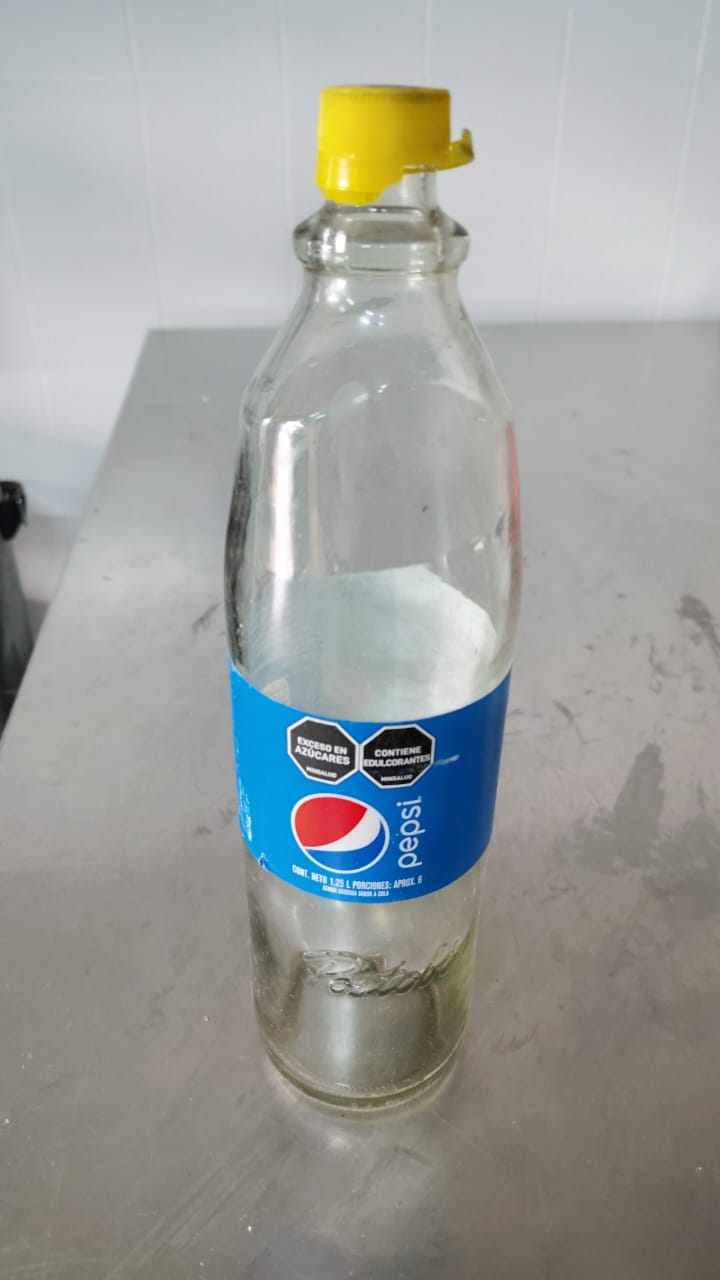Vidrio: (223, 200, 523, 1114)
